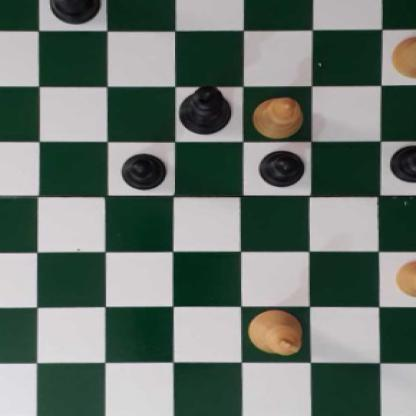black-king: (175, 84, 234, 134)
black-pawn: (118, 152, 168, 190), (258, 147, 304, 188), (389, 142, 416, 182)
black-rook: (46, 0, 102, 25)
white-bishop: (252, 96, 304, 138)
white-king: (247, 306, 303, 356)
white-pawn: (392, 258, 416, 299)
white-rook: (392, 27, 416, 78)
